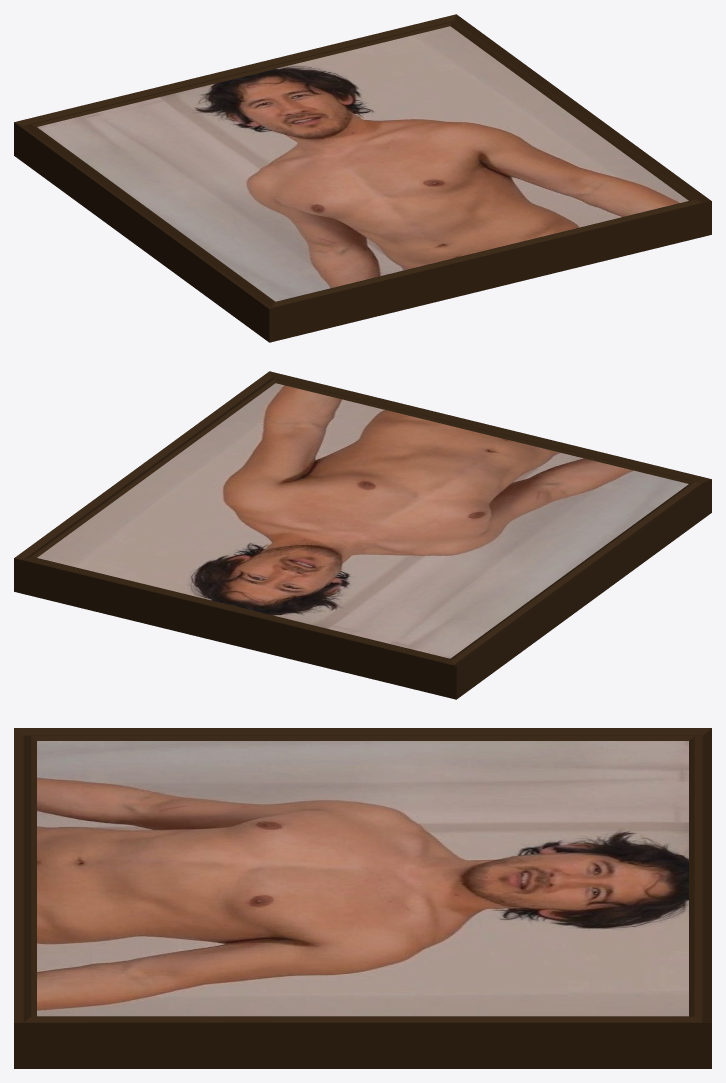
File: markiplier.fbx
3 views of the same model, one above another, from view 1: azimuth 30°, elevation 25°; view 2: azimuth 150°, elevation 25°; view 3: azimuth 270°, elevation 25° (orthographic). The views are drawn at different scales.
Visible parts, largest first — view 1: Cube.001; view 2: Cube.001; view 3: Cube.001.
Boxes of the visible parts, <box> form: Cube.001: <box>14,14,711,342</box>; Cube.001: <box>14,371,711,699</box>; Cube.001: <box>14,728,711,1068</box>.
Size of the model in its own units: 1600 by 116 by 1600.
Materials: 2 (1 with a texture image).
